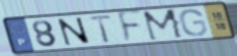8: (31, 19, 58, 48)
F: (116, 9, 145, 46)
G: (178, 8, 209, 38)
M: (140, 7, 185, 42)
N: (55, 16, 93, 47)
T: (88, 13, 114, 44)
